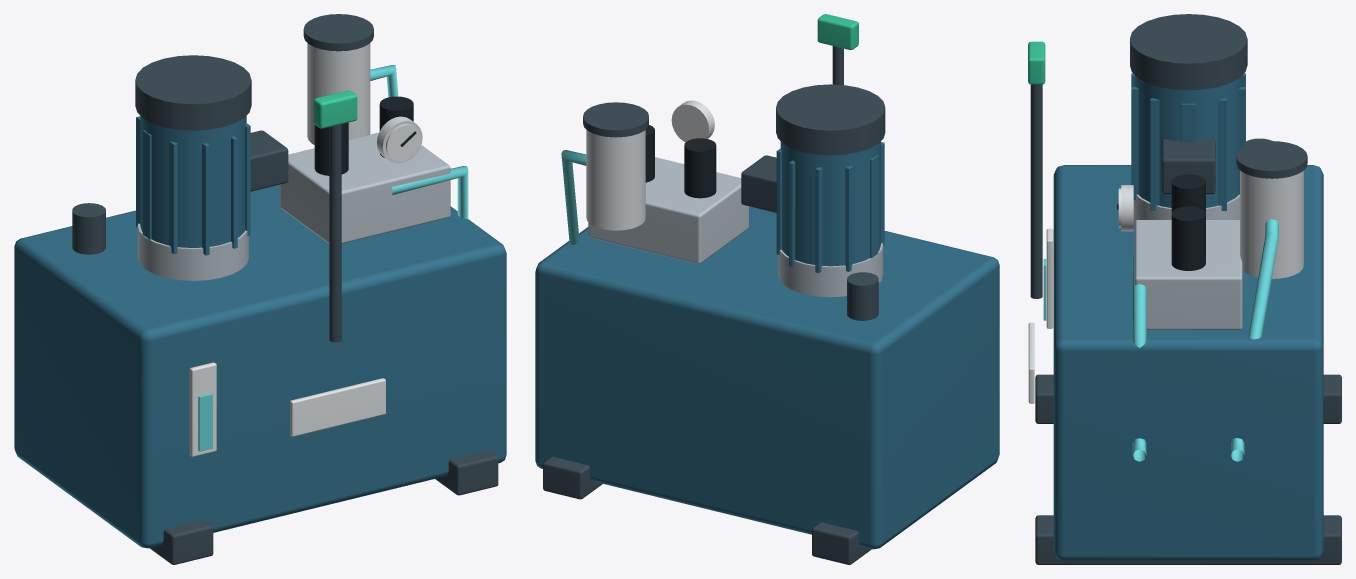
File: Equipment_HPU.fbx
3 views of the same model, side by side, from view 1: azimuth 30°, elevation 25°; view 2: azimuth 150°, elevation 25°; view 3: azimuth 270°, elevation 25° (orthographic). The views are drawn at different scales.
Visible parts, largest first — view 1: Reservoir, ValveManifold, MotorBody, FanCover, ReturnFilter, PumpHousing, BlankNameplate_HPU, IndicatorSupport_HPU, FilterCap, TankFoot, TankFoot.001, TerminalBox (+14 smaller); view 2: Reservoir, ValveManifold, MotorBody, FanCover, ReturnFilter, PumpHousing, FilterCap, SolenoidValve, TankFoot.001, TankFoot, TerminalBox, FillerBreather (+8 smaller); view 3: Reservoir, ValveManifold, FanCover, MotorBody, ReturnFilter, TankFoot.001, IndicatorSupport_HPU, TerminalBox, FilterCap, SolenoidValve.001, ReturnPipe, TankFoot (+12 smaller).
Part boxes in pixels (<box>): Reservoir: <box>14,184,506,548</box>; ValveManifold: <box>280,132,450,243</box>; MotorBody: <box>140,116,246,247</box>; FanCover: <box>135,55,251,130</box>; ReturnFilter: <box>307,43,370,144</box>; PumpHousing: <box>137,223,248,280</box>; BlankNameplate_HPU: <box>290,378,385,436</box>; IndicatorSupport_HPU: <box>329,124,341,342</box>; FilterCap: <box>303,14,373,51</box>; TankFoot: <box>150,519,213,564</box>; TankFoot.001: <box>435,450,498,495</box>; TerminalBox: <box>250,130,288,191</box>; Reservoir: <box>535,206,999,549</box>; ValveManifold: <box>588,157,748,263</box>; MotorBody: <box>780,141,880,266</box>; FanCover: <box>776,84,885,155</box>; ReturnFilter: <box>586,130,645,230</box>; PumpHousing: <box>778,243,883,297</box>; FilterCap: <box>583,102,648,137</box>; SolenoidValve: <box>684,138,716,198</box>; TankFoot.001: <box>543,456,602,499</box>; TankFoot: <box>812,522,871,564</box>; TerminalBox: <box>741,155,776,212</box>; FillerBreather: <box>847,272,878,320</box>; Reservoir: <box>1053,165,1323,560</box>; ValveManifold: <box>1134,220,1242,329</box>; FanCover: <box>1130,14,1247,90</box>; MotorBody: <box>1134,75,1242,207</box>; ReturnFilter: <box>1240,170,1303,278</box>; TankFoot.001: <box>1035,515,1341,564</box>; IndicatorSupport_HPU: <box>1030,84,1042,298</box>; TerminalBox: <box>1161,139,1215,194</box>; FilterCap: <box>1236,141,1307,178</box>; SolenoidValve.001: <box>1171,206,1205,270</box>; ReturnPipe: <box>1231,219,1278,461</box>; TankFoot: <box>1035,374,1341,423</box>.
Bounding box in the file's own units: 1.88 × 1.96 × 1.28.
